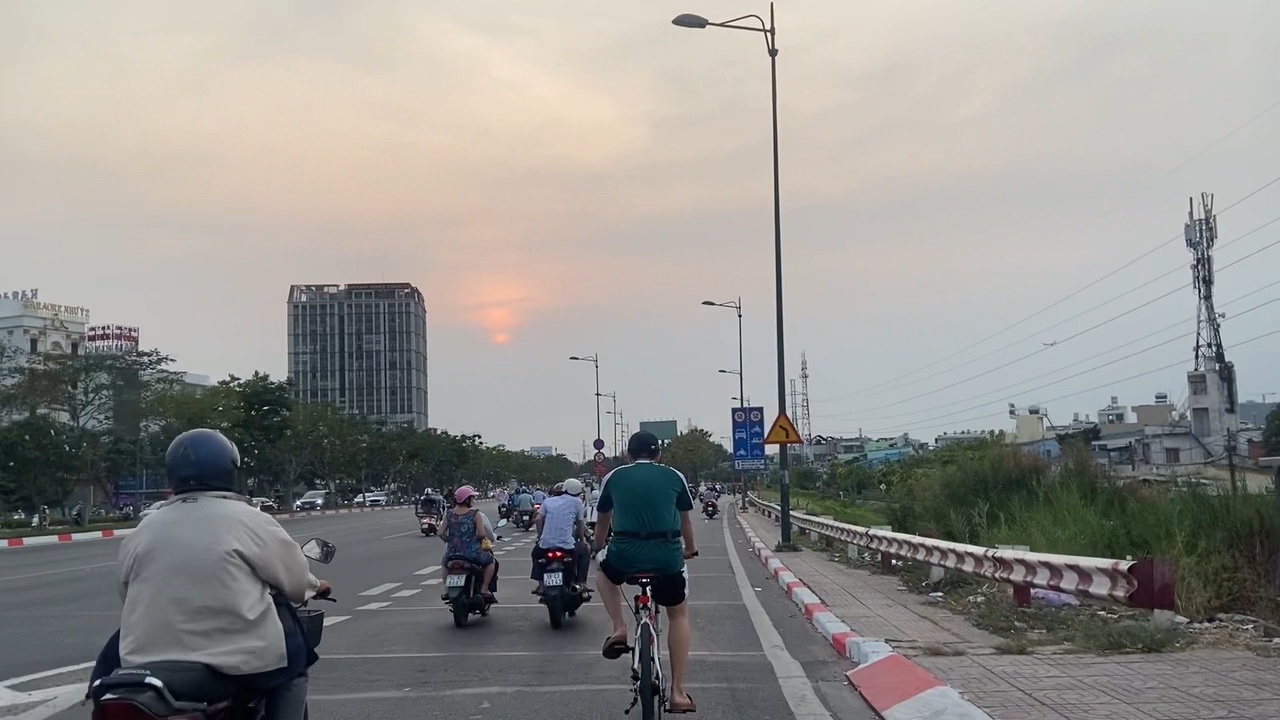duong_nghieng_trai: (760, 409, 808, 446)
